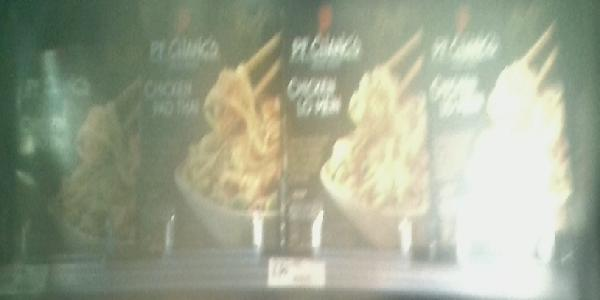pizza1: (438, 1, 585, 277), (281, 1, 436, 262), (137, 4, 281, 251), (7, 41, 137, 257)
